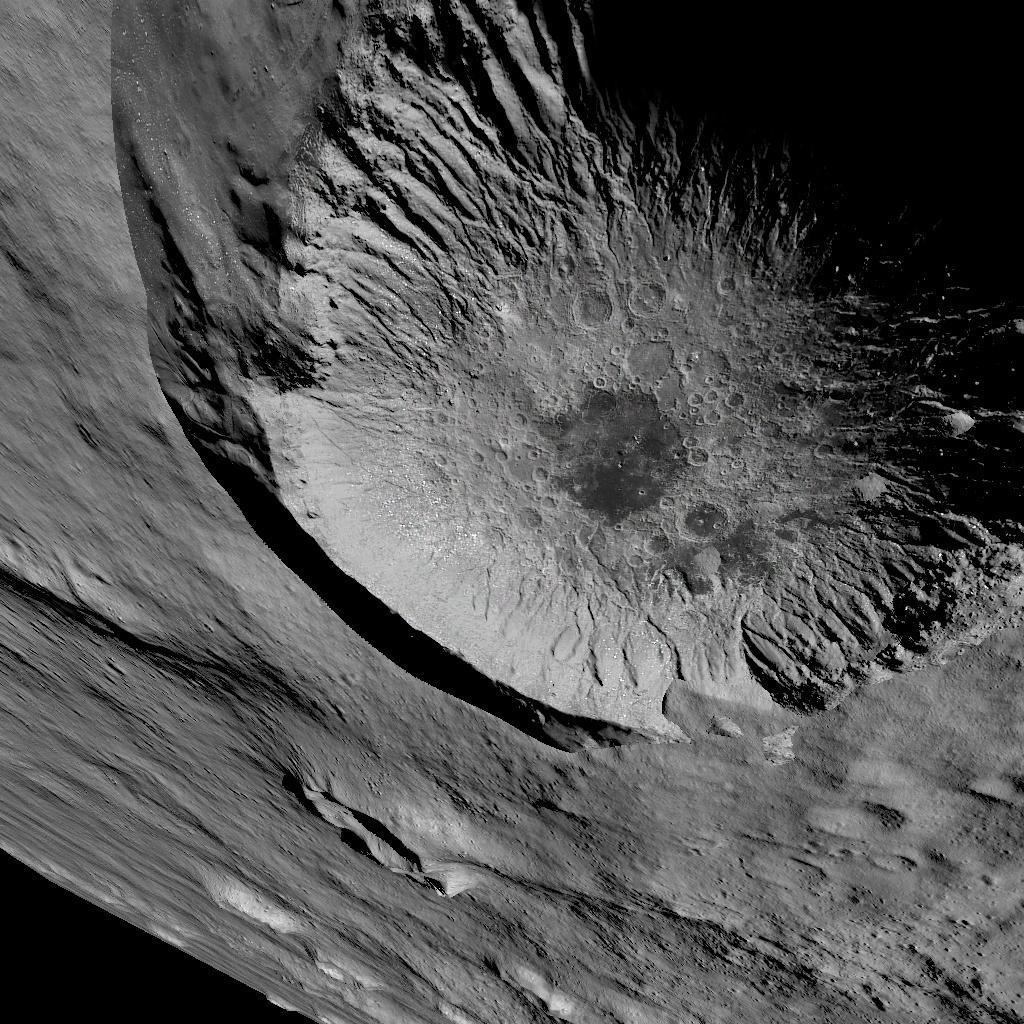Crater: (93, 0, 1024, 752), (270, 766, 458, 902)
Plan surface: (502, 777, 1024, 1024)
